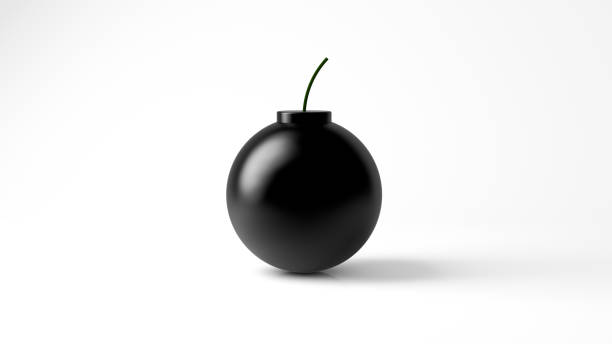e1: (225, 57, 386, 273)
